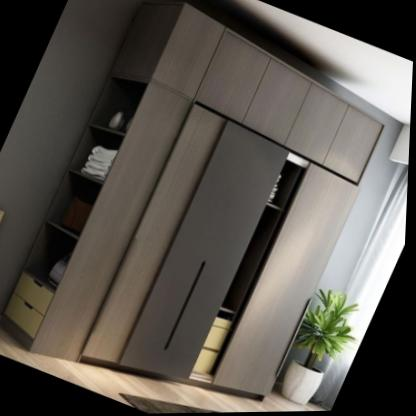Closet: (36, 7, 384, 401)
